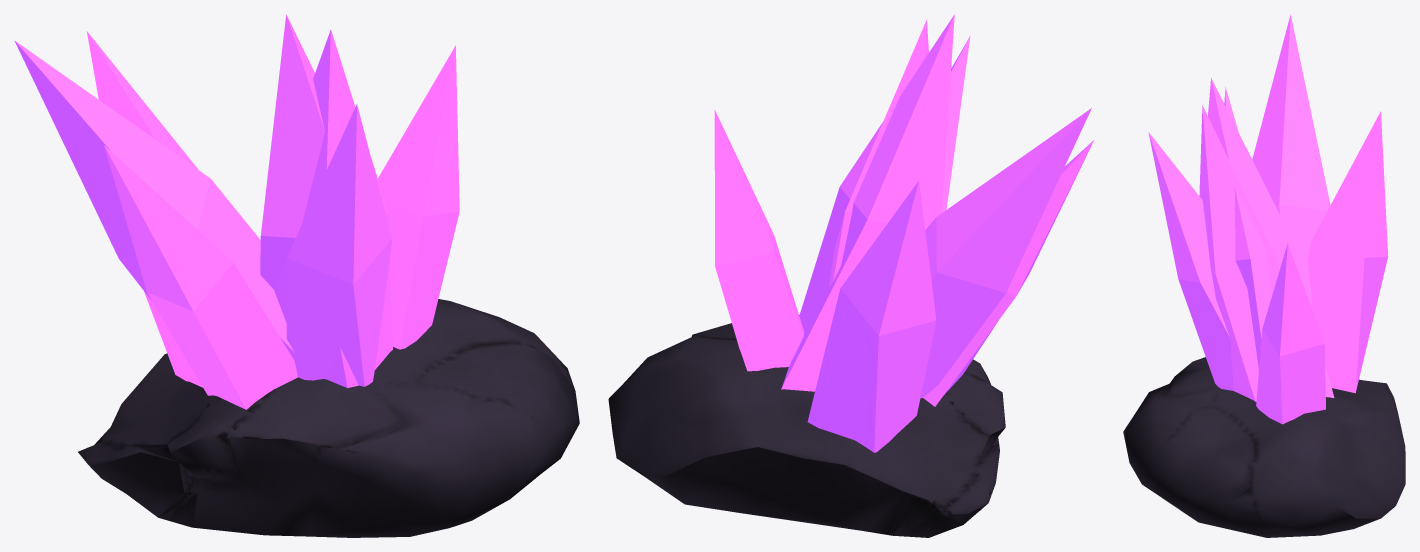
Rendered from Mineral_Vacio.fbx.
3 renders of one model, left to right at view 1: azimuth 30°, elevation 25°; view 2: azimuth 150°, elevation 25°; view 3: azimuth 270°, elevation 25°, orthographic. The views are drawn at different scales.
Parts seen in each view (by area): view 1: Mineral_Vacio_Cristales, Mineral_Vacio_Base; view 2: Mineral_Vacio_Cristales, Mineral_Vacio_Base; view 3: Mineral_Vacio_Cristales, Mineral_Vacio_Base.
Part boxes in pixels (box(x1,y1,x2,y2)): Mineral_Vacio_Cristales: box(14, 14, 459, 409); Mineral_Vacio_Base: box(78, 299, 579, 537); Mineral_Vacio_Cristales: box(714, 14, 1093, 452); Mineral_Vacio_Base: box(608, 315, 1005, 537); Mineral_Vacio_Cristales: box(1148, 14, 1388, 424); Mineral_Vacio_Base: box(1123, 357, 1405, 537).
Bounding box in the file's own units: 1.43 × 1.33 × 0.9288.
2 materials, 1 textured.
